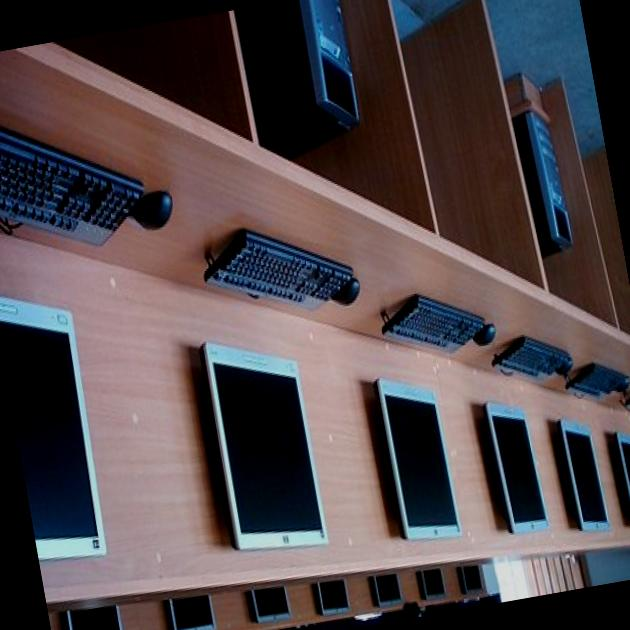desk: (0, 7, 630, 370)
